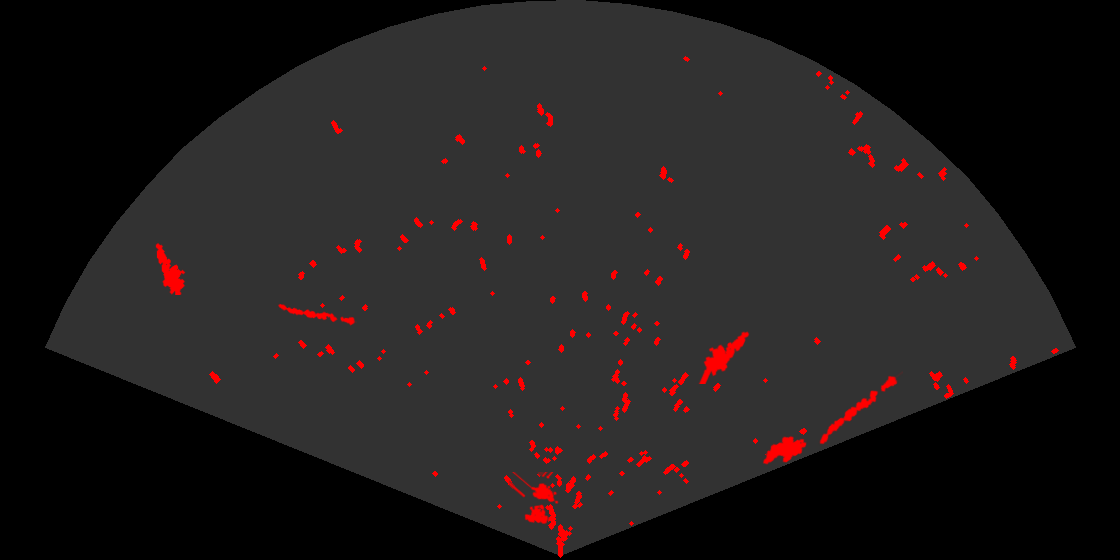AUV: (761, 434, 808, 466)
cage: (509, 472, 560, 526)
chain: (818, 370, 903, 446), (276, 302, 357, 327)
frogman: (697, 330, 751, 384), (154, 241, 187, 295)
